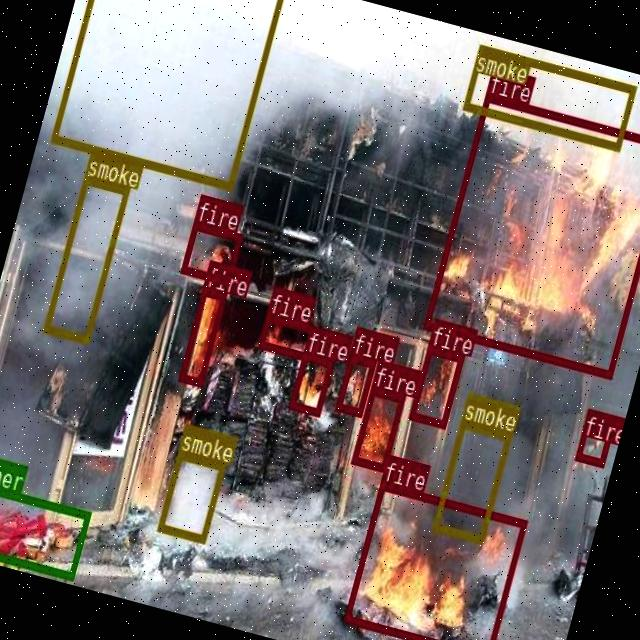fire: (422, 91, 640, 377), (342, 480, 525, 640), (177, 284, 226, 384), (408, 344, 464, 426), (350, 386, 404, 470), (180, 220, 241, 284), (288, 352, 334, 416), (256, 312, 318, 359), (334, 352, 375, 416), (574, 407, 615, 465)
smoke: (49, 0, 285, 189), (462, 42, 636, 149), (42, 175, 129, 342), (430, 418, 510, 542), (156, 448, 226, 542)
